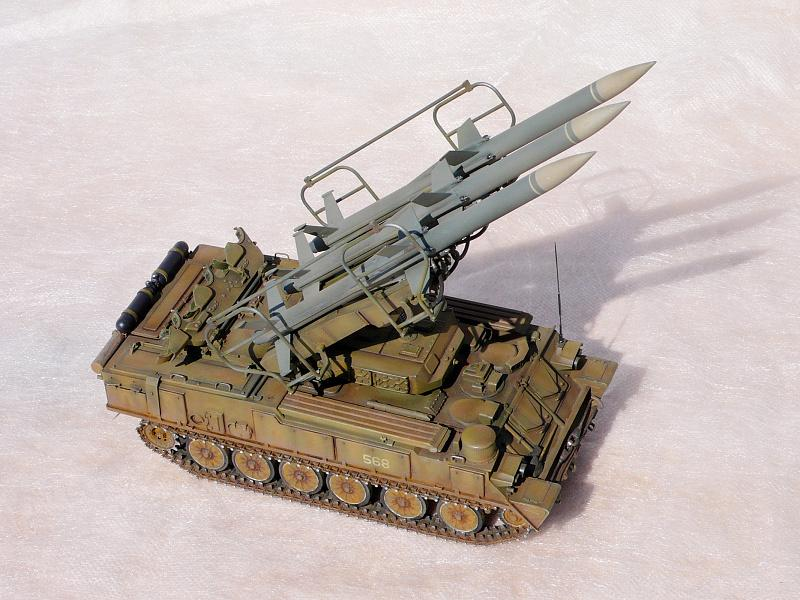armored_car: (85, 52, 664, 562)
